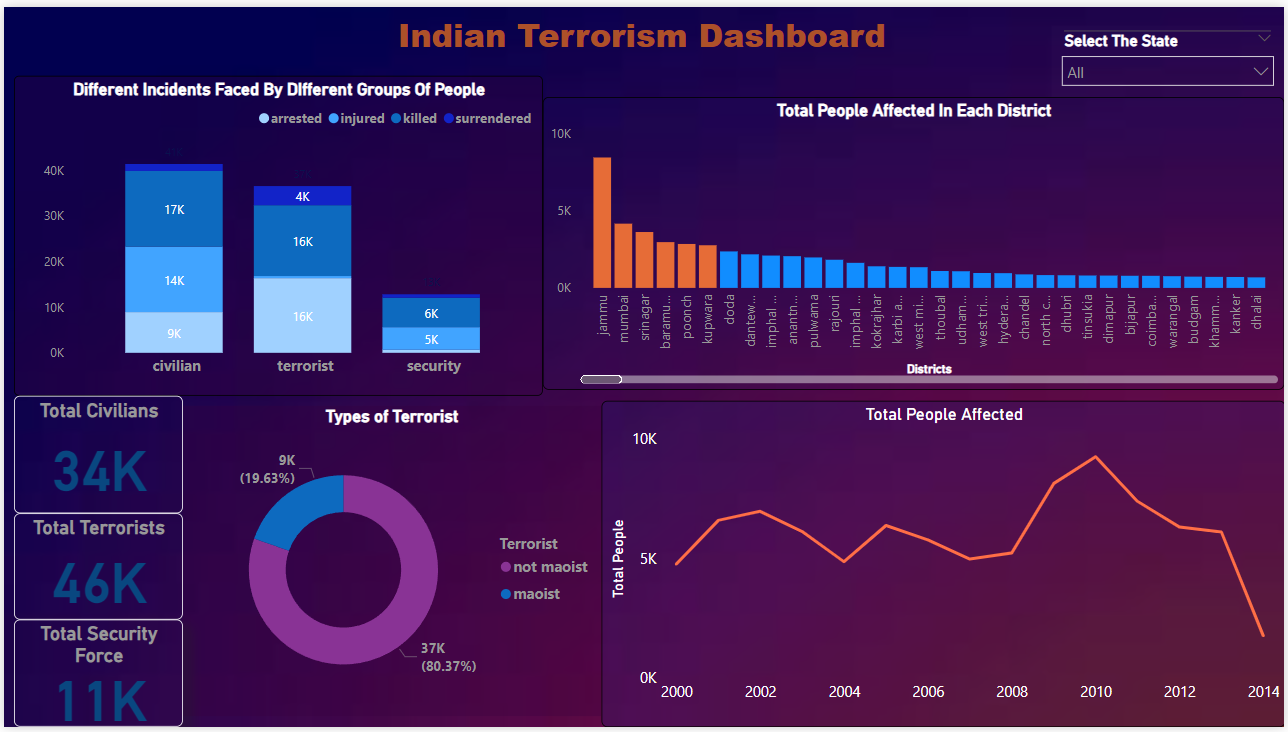

This screenshot's page, from the dashboard's own definition file:
{"tool":"powerbi","page":{"name":"Page 1","canvas":[1280,720],"ordinal":0},"visuals":[{"type":"textbox","box":[388.8,0,521.2,62.5],"z":0},{"type":"lineChart","title":"Total People Affected","fields":{"Y":["Sum(my_data.total_number_of_people)"],"Category":["my_data.Date.Variation.Date Hierarchy.Year"]},"box":[597.5,393.8,683.8,326.2],"z":1000},{"type":"donutChart","title":"Types of Terrorist","fields":{"Category":["my_data.svmlabel2"],"Y":["Sum(my_data.militants_terrorists_insurgents)"]},"box":[178.8,398.8,418.8,310],"z":2000},{"type":"columnChart","title":"Different Incidents Faced By DIfferent Groups Of People","fields":{"Category":["my_data.svmlabel1"],"Series":["my_data.verb"],"Y":["Sum(my_data.total_number_of_people)"]},"box":[10,68.8,528.8,320],"z":3000},{"type":"lineClusteredColumnComboChart","title":"Total People Affected In Each District","fields":{"Category":["my_data.districtmatch"],"Y":["Sum(my_data.total_number_of_people)"]},"box":[538.8,90,741.2,292.5],"z":4000},{"type":"card","title":"Total Civilians","fields":{"Values":["Sum(my_data.civilians)"]},"box":[10,388.8,168.8,117.5],"z":5000},{"type":"card","title":"Total Terrorists","fields":{"Values":["Sum(my_data.militants_terrorists_insurgents)"]},"box":[10,506.2,168.8,106.2],"z":6000},{"type":"card","title":"Total Security Force","fields":{"Values":["Sum(my_data.security_forces)"]},"box":[10,612.5,168.8,107.5],"z":7000},{"type":"slicer","fields":{"Values":["my_data.state_full"]},"box":[1047.5,18.8,232.5,71.2],"z":7001}]}

Visuals, with their boxes in screenshot pixels (x1, y1, x2, y2), scaled from the page's 1280x720 canvas onto the 1288x732 screenshot:
textbox: Rect(391, 0, 916, 64)
"Total People Affected" lineChart: Rect(601, 400, 1287, 731)
"Types of Terrorist" donutChart: Rect(180, 405, 601, 721)
"Different Incidents Faced By DIfferent Groups Of People" columnChart: Rect(10, 70, 542, 395)
"Total People Affected In Each District" lineClusteredColumnComboChart: Rect(542, 92, 1287, 389)
"Total Civilians" card: Rect(10, 395, 180, 515)
"Total Terrorists" card: Rect(10, 515, 180, 623)
"Total Security Force" card: Rect(10, 623, 180, 731)
slicer - my_data.state_full: Rect(1054, 19, 1287, 92)
